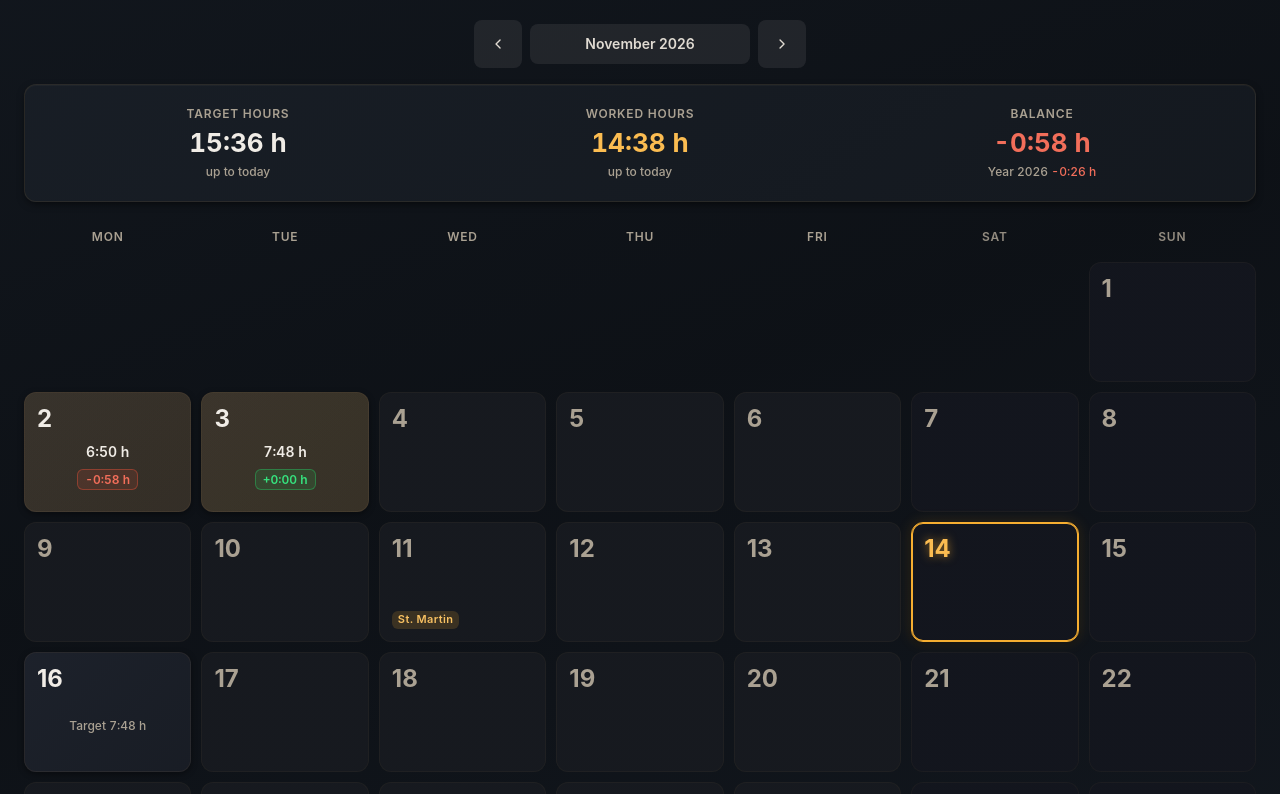
MonthPage › selects a month in the picker
Expected: the element named "Statistics" is shown, [24,84,1256,202]
Click the button "November 2026": [640, 44] box [530,24,750,64]
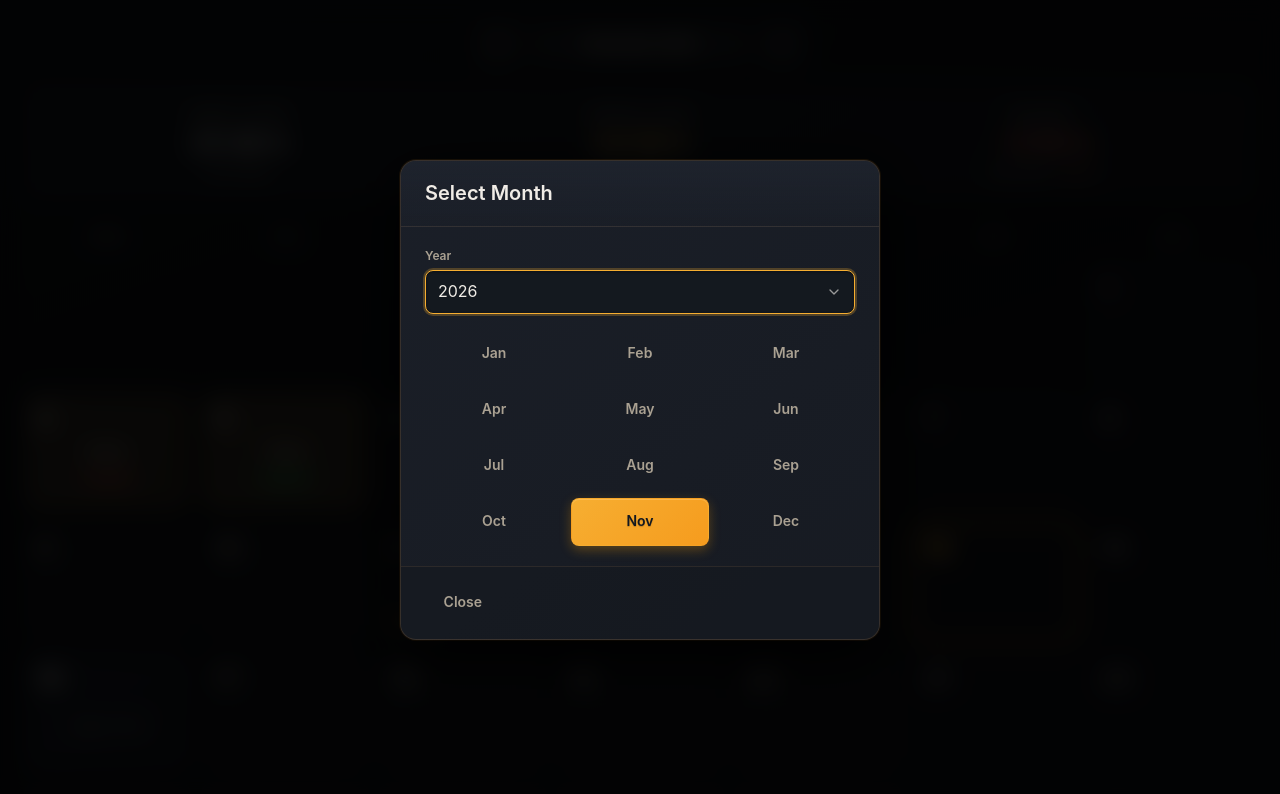
Select "2027" in the dropdown labelled "Year": [640, 292] box [438,271,842,313]
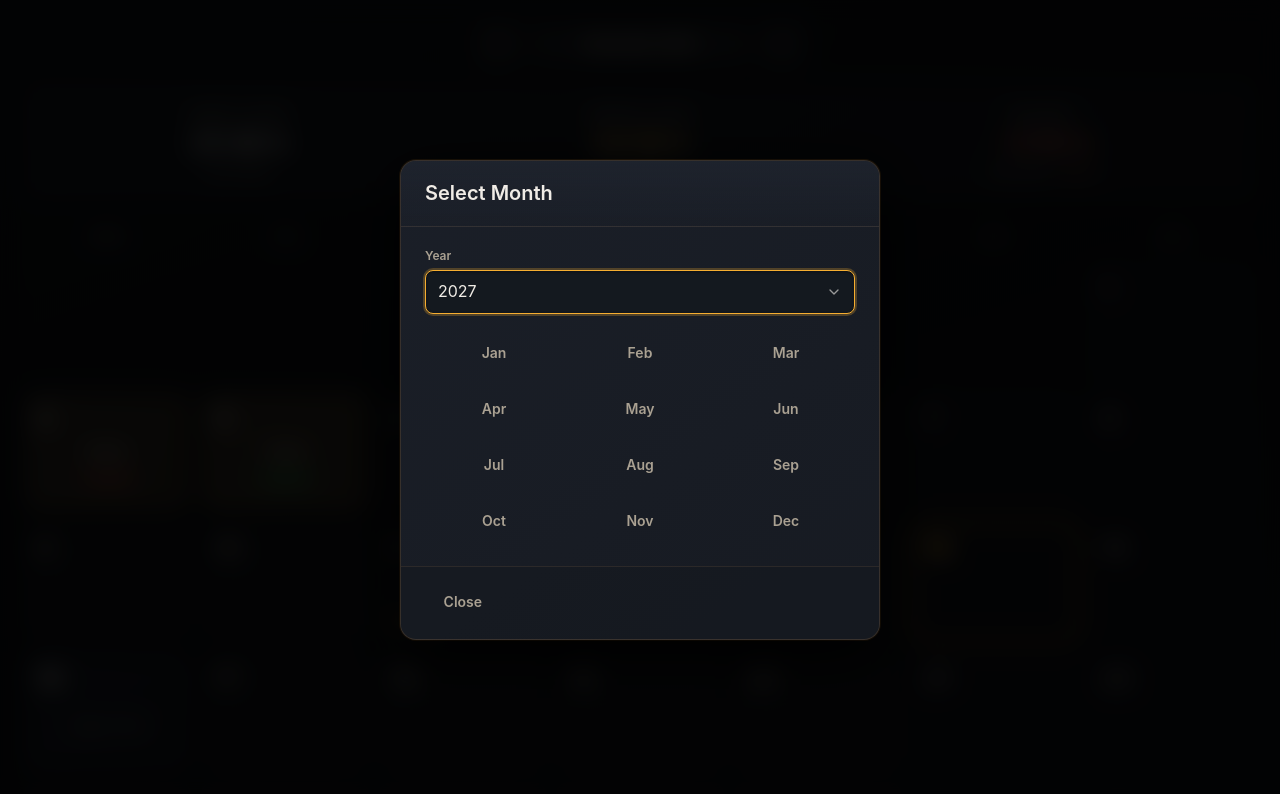
Click the button "Mar": [786, 354] box [717,330,855,378]
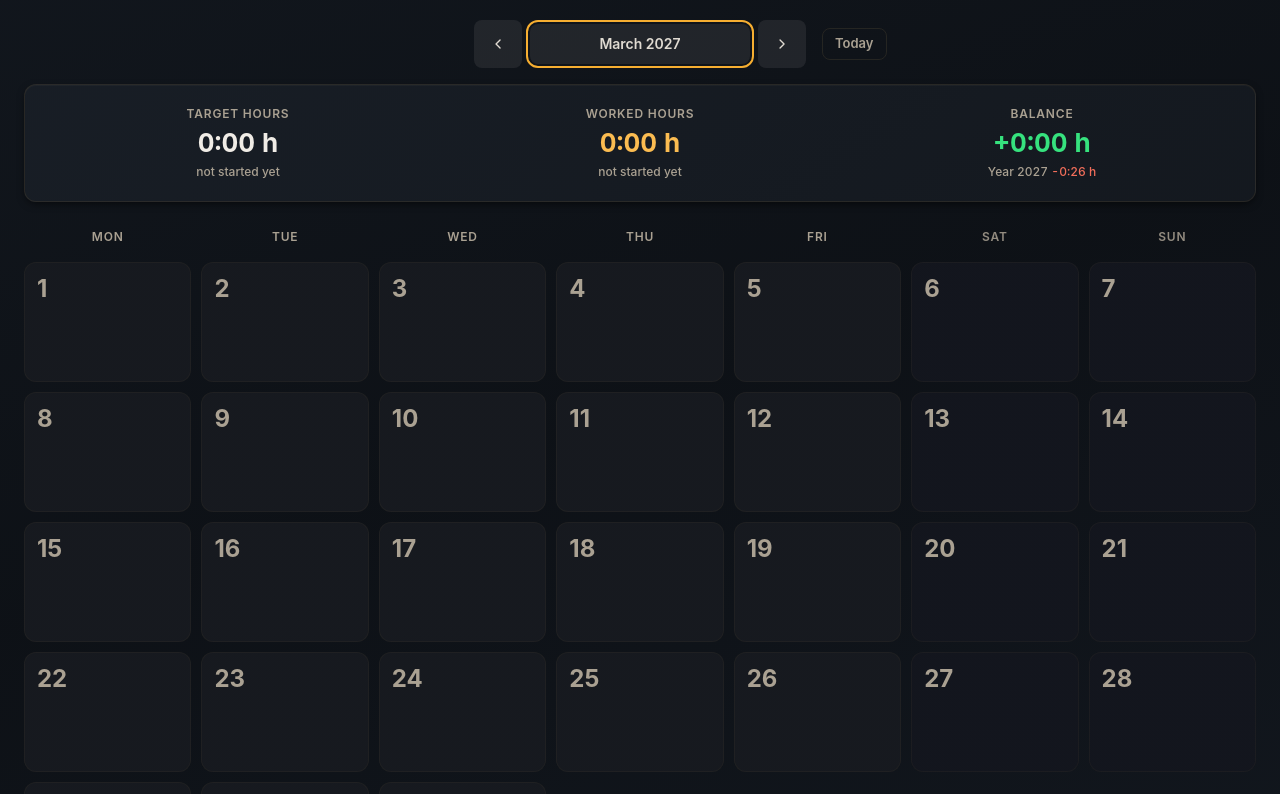
Now the dialog is gone
Now the button "March 2027" is shown, box [530,24,750,64]
